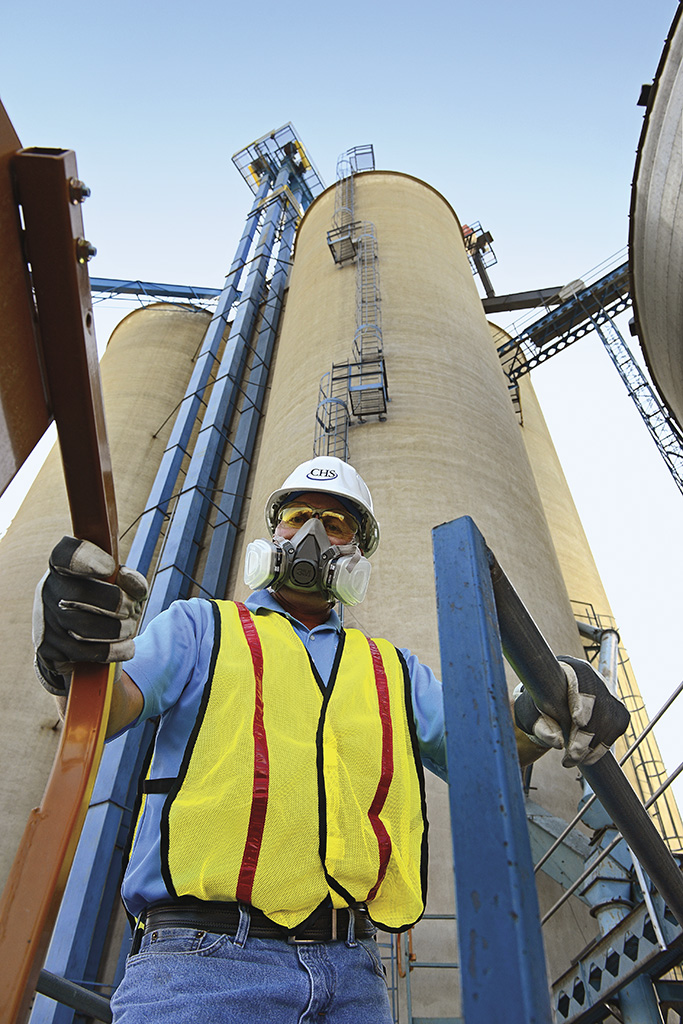Helmet: (246, 445, 397, 613)
Reflective vest: (166, 596, 433, 934)
